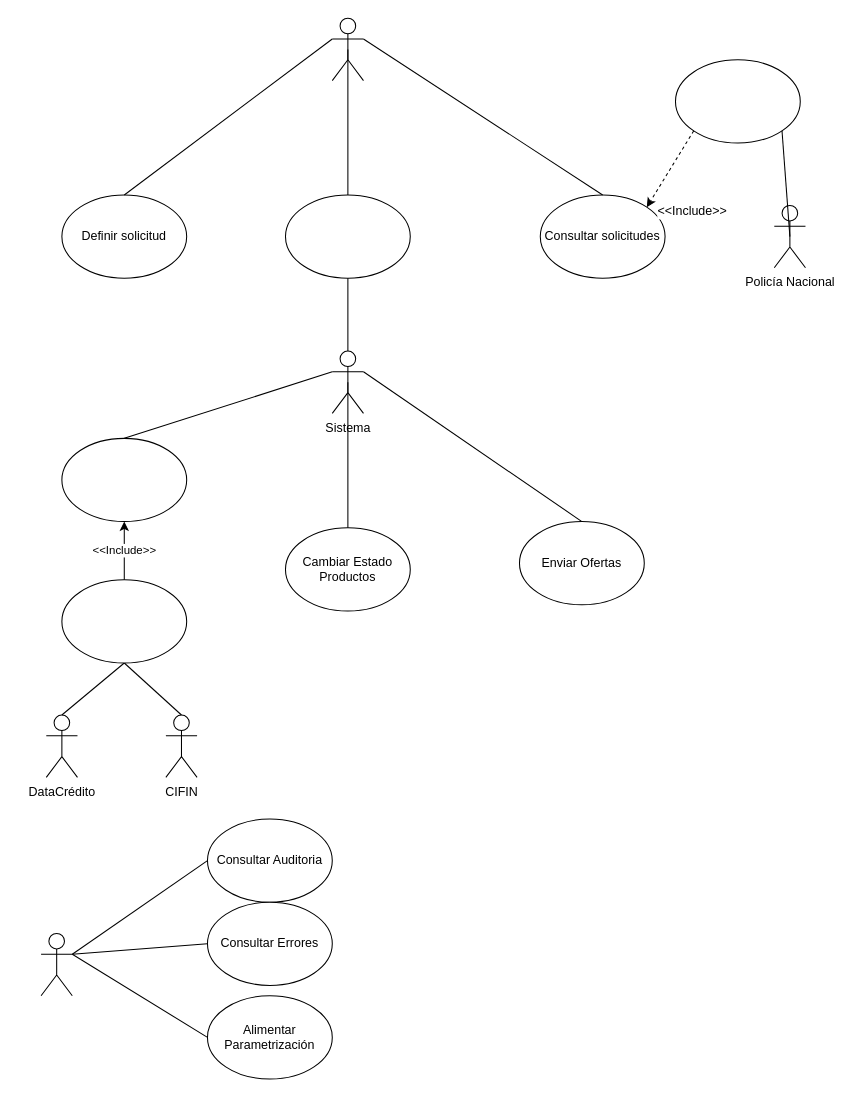
Some shapes in this 852 by 1097 pixel diagram are drawn without their labels. The box of each missing label's shape, as (x1, y1, x2, y2) in pixels:
Administrador: (40, 932, 72, 996)
Consultar KPIs: (284, 194, 410, 278)
Consultar página de la Policía: (674, 59, 800, 143)
Director Comercial: (331, 17, 363, 81)
Generar Informe Entidades Externas: (61, 579, 187, 663)
Validar Información de registro: (61, 437, 187, 522)
